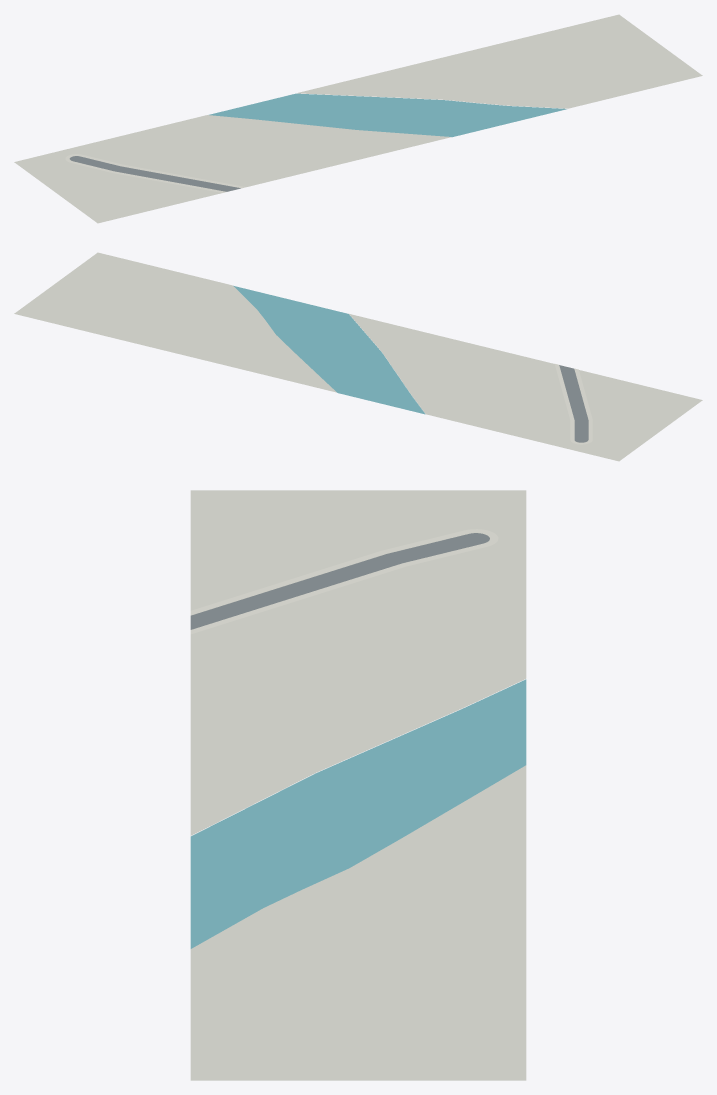
3 views of the same model, one above another, from view 1: azimuth 30°, elevation 25°; view 2: azimuth 150°, elevation 25°; view 3: azimuth 270°, elevation 25° (orthographic). The views are drawn at different scales.
Visible parts, largest first — view 1: city; view 2: city; view 3: city.
Part boxes in pixels (left/top/right/bottom): city: left=14, top=14, right=702, bottom=223; city: left=14, top=252, right=702, bottom=461; city: left=190, top=490, right=526, bottom=1080.
Size of the model in its own units: 500 by 0.4 by 120.
